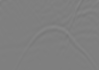hyperbola: (17, 23, 92, 63)
